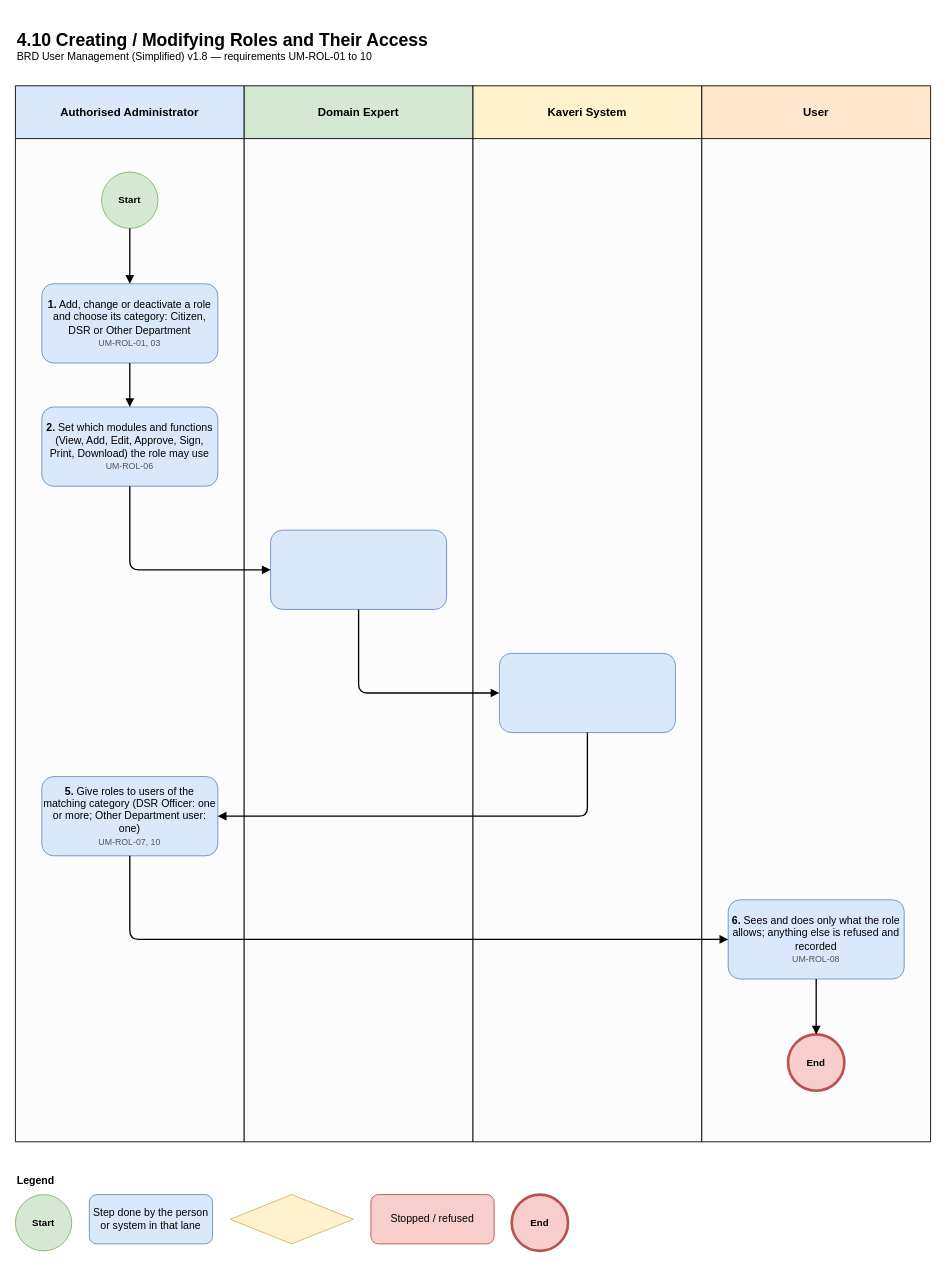
The diagram is 946 pixels wide and 1267 high, and some of its shapes have lost their labels. The shapes that lost their labels are listed below. From the top down, each one's centre as x and y in pixels, then its label:
At point (358, 569): "3. Confirm the starting list of roles before go-live UM-ROL-03".
At point (587, 693): "4. Save the role and record who changed it and when UM-ROL-09".
At point (291, 1219): "Check / choice".
